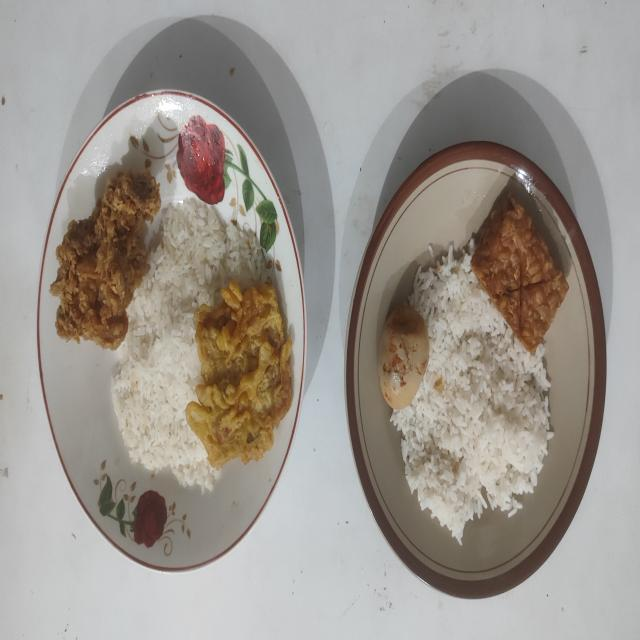nasi_putih: (390, 245, 554, 541), (111, 200, 260, 490)
tempe_goreng: (471, 192, 568, 352)
